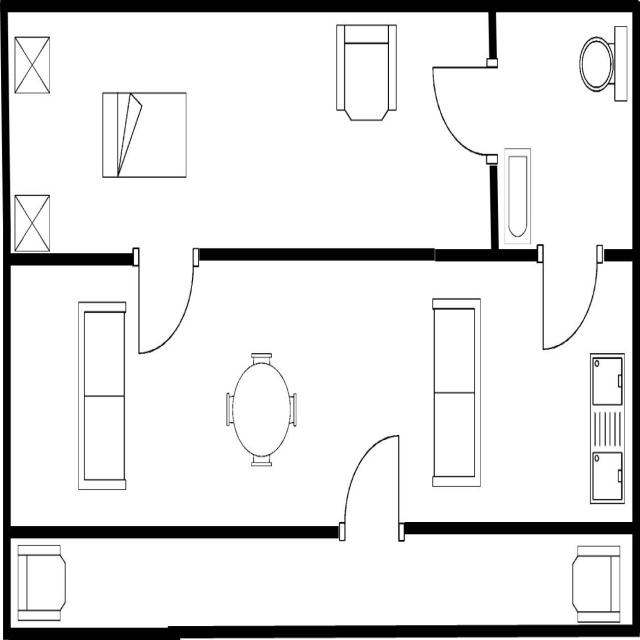armchair: (332, 18, 399, 124), (569, 538, 624, 624), (14, 539, 67, 626)
bed: (98, 84, 190, 184)
coffee_table: (11, 32, 52, 100), (12, 190, 52, 255)
large_sink: (574, 20, 629, 106)
large_sofa: (74, 293, 131, 497), (428, 292, 483, 492)
round_table: (223, 346, 300, 470)
tub: (501, 142, 534, 246)
twin_sink: (587, 347, 627, 509)
